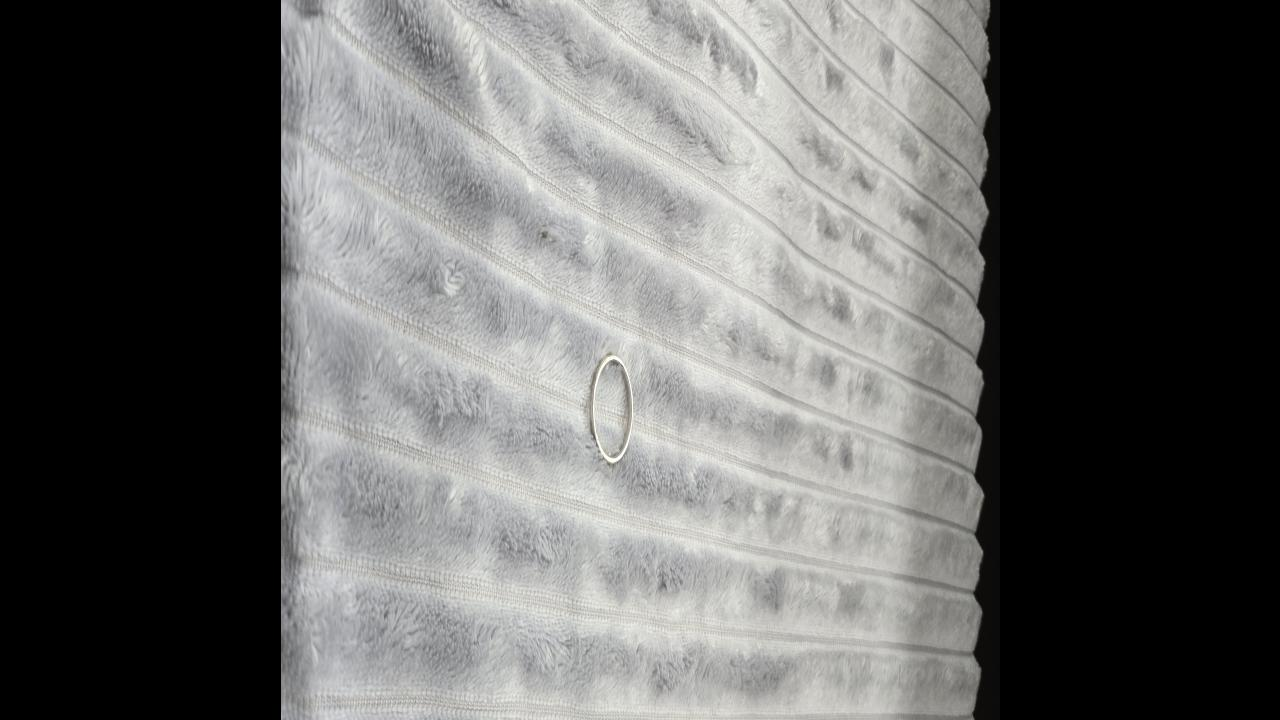ring: (589, 354, 633, 466)
